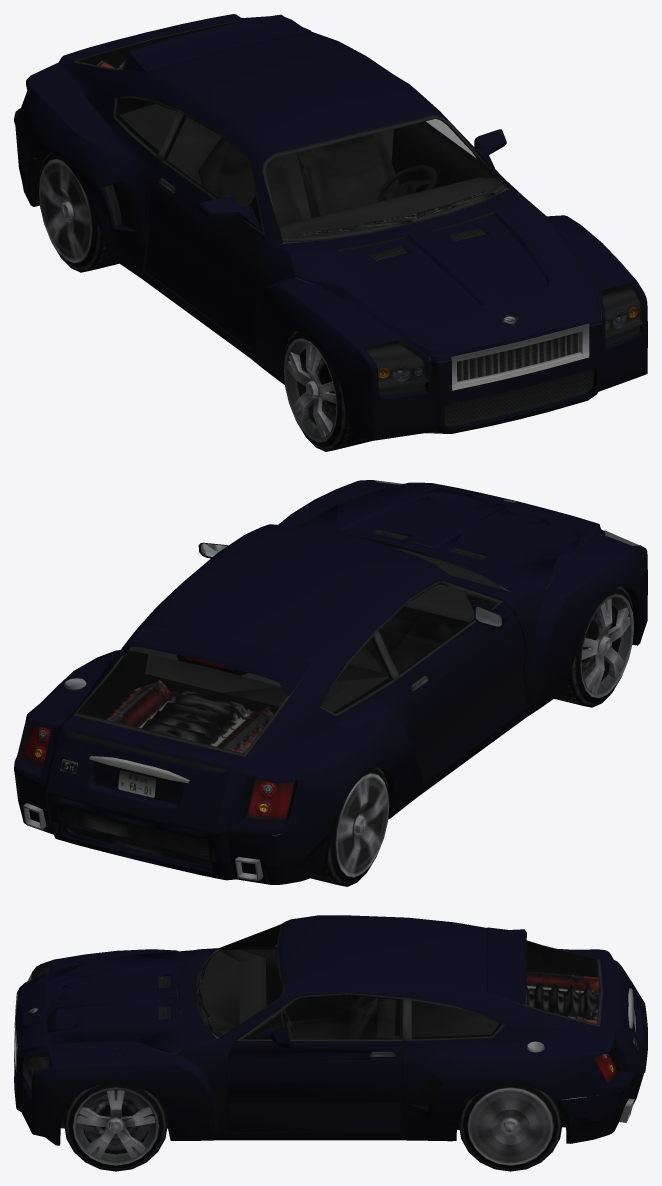
3 views of the same model, one above another, from view 1: azimuth 30°, elevation 25°; view 2: azimuth 150°, elevation 25°; view 3: azimuth 270°, elevation 25° (orthographic). The views are drawn at different scales.
Parts seen in each view (by area): view 1: Car2_hd_mesh_0, Car2_hd_mesh_4, Car2_hd_mesh_2, Car2_hd_mesh_5, Car2_hd_mesh_6, Car2_hd_mesh_1, Car2_hd_mesh_3; view 2: Car2_hd_mesh_0, Car2_hd_mesh_2, Car2_hd_mesh_4, Car2_hd_mesh_3, Car2_hd_mesh_5, Car2_hd_mesh_6; view 3: Car2_hd_mesh_0, Car2_hd_mesh_1, Car2_hd_mesh_4, Car2_hd_mesh_5.001, Car2_hd_mesh_7, Car2_hd_mesh_3, Car2_hd_mesh_2.
Boxes of the visible parts, x1=… form: Car2_hd_mesh_0: x1=14, y1=14, x2=647, y2=441; Car2_hd_mesh_4: x1=290, y1=197, x2=601, y2=362; Car2_hd_mesh_2: x1=144, y1=112, x2=265, y2=347; Car2_hd_mesh_5: x1=283, y1=331, x2=380, y2=451; Car2_hd_mesh_6: x1=38, y1=151, x2=118, y2=272; Car2_hd_mesh_1: x1=391, y1=121, x2=506, y2=192; Car2_hd_mesh_3: x1=15, y1=126, x2=44, y2=206; Car2_hd_mesh_0: x1=14, y1=480, x2=647, y2=880; Car2_hd_mesh_2: x1=378, y1=581, x2=528, y2=782; Car2_hd_mesh_4: x1=296, y1=482, x2=601, y2=589; Car2_hd_mesh_3: x1=14, y1=772, x2=337, y2=884; Car2_hd_mesh_5: x1=554, y1=586, x2=634, y2=707; Car2_hd_mesh_6: x1=285, y1=767, x2=389, y2=886; Car2_hd_mesh_0: x1=14, y1=915, x2=647, y2=1145; Car2_hd_mesh_1: x1=227, y1=993, x2=402, y2=1131; Car2_hd_mesh_4: x1=15, y1=949, x2=198, y2=1056; Car2_hd_mesh_5.001: x1=64, y1=1083, x2=167, y2=1171; Car2_hd_mesh_7: x1=458, y1=1084, x2=562, y2=1171; Car2_hd_mesh_3: x1=555, y1=1073, x2=643, y2=1143; Car2_hd_mesh_2: x1=240, y1=933, x2=400, y2=1035.
Size of the model in its own units: 2.02 by 1.32 by 4.4.
26 materials, 23 textured.
